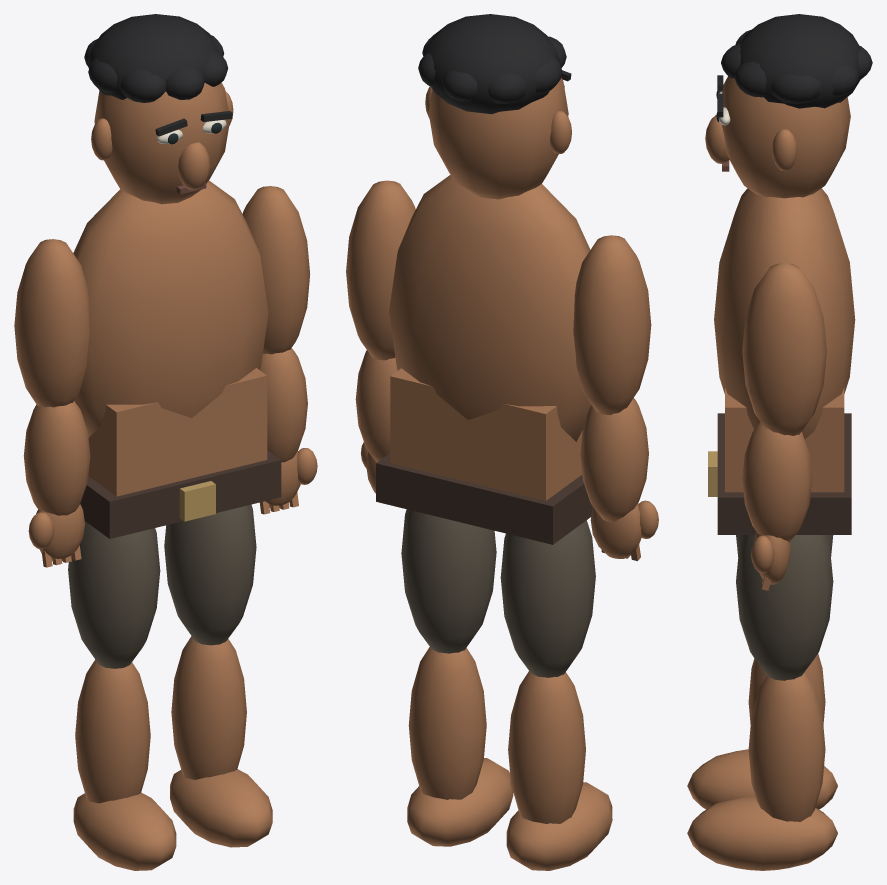
The model's file is bridger.glb.
The picture shows the model from 3 angles, left to right: view 1: azimuth 30°, elevation 25°; view 2: azimuth 150°, elevation 25°; view 3: azimuth 270°, elevation 25°; orthographic projection. The views are drawn at different scales.
Parts seen in each view (by area): view 1: bridger_12_stone, shin_and_foot_stone (×2), face_and_hair_stone, thigh_stone (×2), upper_arm_stone (×2), forearm_and_fingers_stone (×2), bridger_12_metal; view 2: bridger_12_stone, shin_and_foot_stone (×2), face_and_hair_stone, thigh_stone (×2), upper_arm_stone (×2), forearm_and_fingers_stone (×2); view 3: bridger_12_stone, face_and_hair_stone, shin_and_foot_stone (×2), upper_arm_stone, thigh_stone, forearm_and_fingers_stone, bridger_12_metal.
Boxes of the visible parts, left/top/right/bottom form: bridger_12_stone: left=73, top=180, right=281, bottom=538; shin_and_foot_stone (×2): left=73, top=636, right=272, bottom=870; face_and_hair_stone: left=84, top=14, right=233, bottom=204; thigh_stone (×2): left=68, top=504, right=256, bottom=668; upper_arm_stone (×2): left=14, top=186, right=310, bottom=407; forearm_and_fingers_stone (×2): left=23, top=348, right=317, bottom=567; bridger_12_metal: left=179, top=481, right=215, bottom=521; bridger_12_stone: left=376, top=175, right=592, bottom=544; shin_and_foot_stone (×2): left=407, top=647, right=612, bottom=870; face_and_hair_stone: left=418, top=14, right=571, bottom=199; thigh_stone (×2): left=401, top=509, right=595, bottom=677; upper_arm_stone (×2): left=346, top=180, right=651, bottom=415; forearm_and_fingers_stone (×2): left=355, top=350, right=658, bottom=561; bridger_12_stone: left=714, top=188, right=855, bottom=534; face_and_hair_stone: left=705, top=14, right=872, bottom=198; shin_and_foot_stone (×2): left=687, top=653, right=837, bottom=870; upper_arm_stone: left=742, top=263, right=826, bottom=435; thigh_stone: left=736, top=535, right=833, bottom=680; forearm_and_fingers_stone: left=742, top=422, right=812, bottom=590; bridger_12_metal: left=708, top=451, right=717, bottom=496.
Size of the model in its own units: 0.684 by 1.86 by 0.381.
